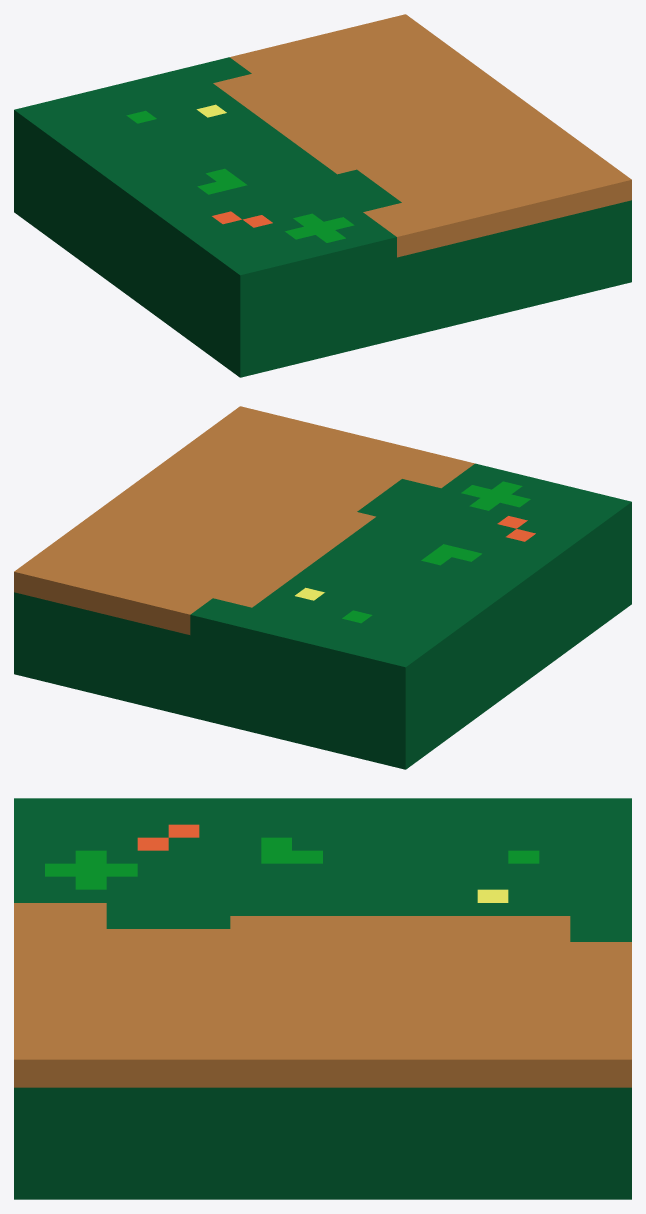
File: Tile6.obj
The picture shows the model from 3 angles, top to bottom: view 1: azimuth 30°, elevation 25°; view 2: azimuth 150°, elevation 25°; view 3: azimuth 270°, elevation 25°; orthographic projection. The views are drawn at different scales.
Bounding box in the file's own units: 2 × 0.5 × 2.
Materials: 1 (1 with a texture image).
